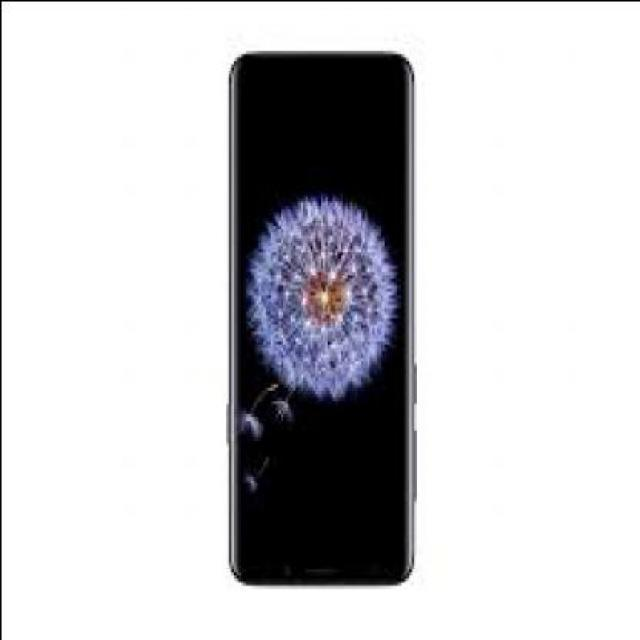phone: (225, 49, 421, 587)
